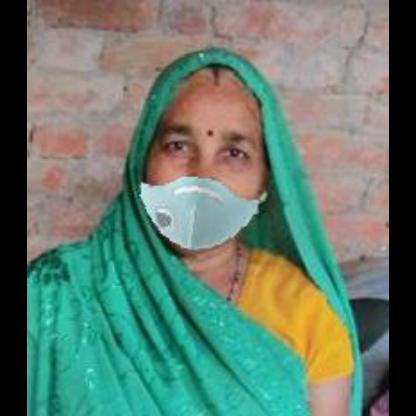FFP Mask: (129, 59, 266, 251)
